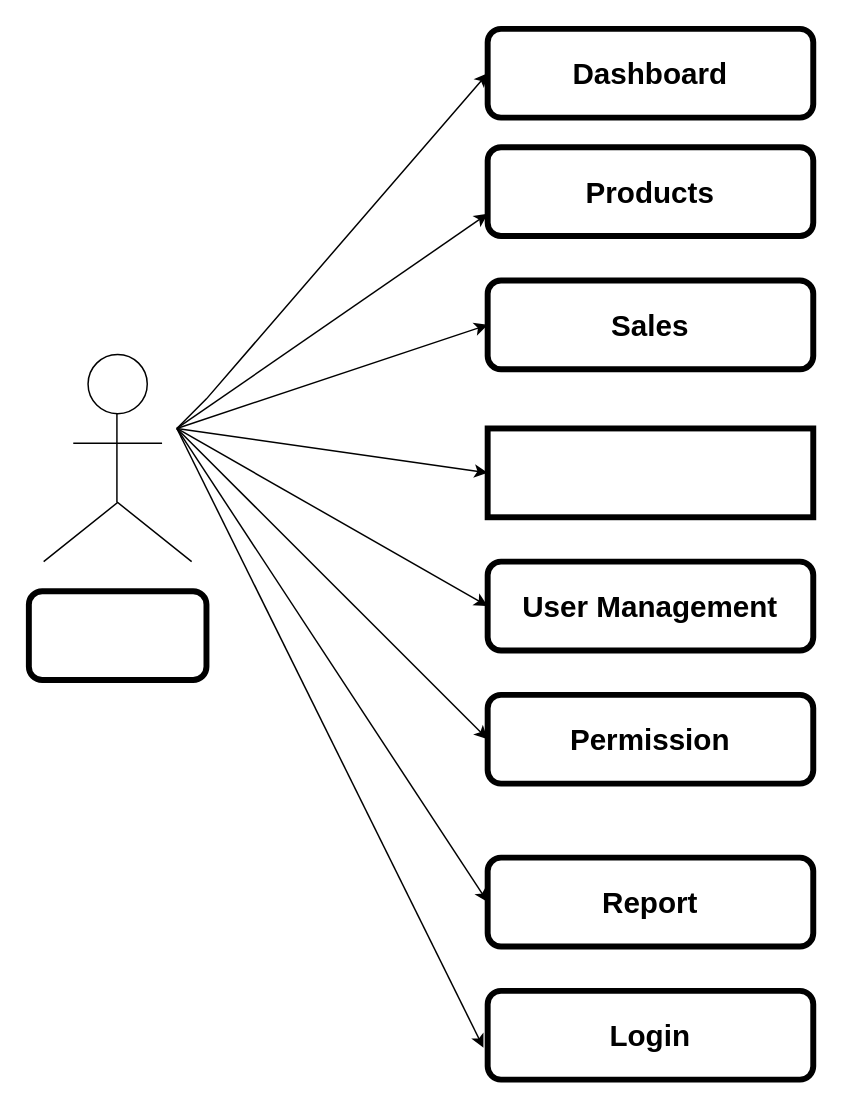
The diagram is 841 pixels wide and 1107 high, and some of its shapes have lost their labels. The box of each missing label's shape, as (x1, y1, x2, y2) in pixels:
Actors: (25, 588, 209, 682)
Category: (484, 425, 815, 519)
